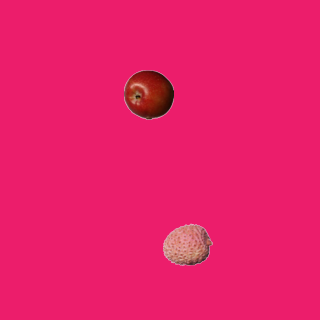Apple Braeburn: (123, 69, 173, 119)
Lychee: (162, 219, 212, 269)
